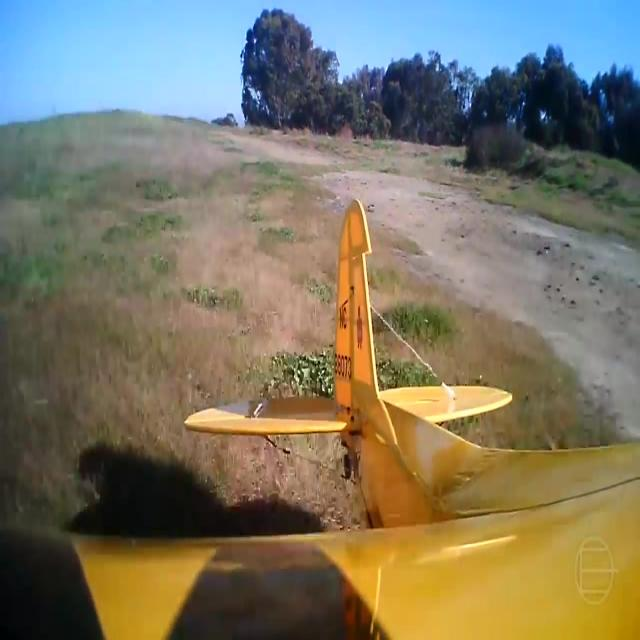iha: (6, 198, 640, 640)
